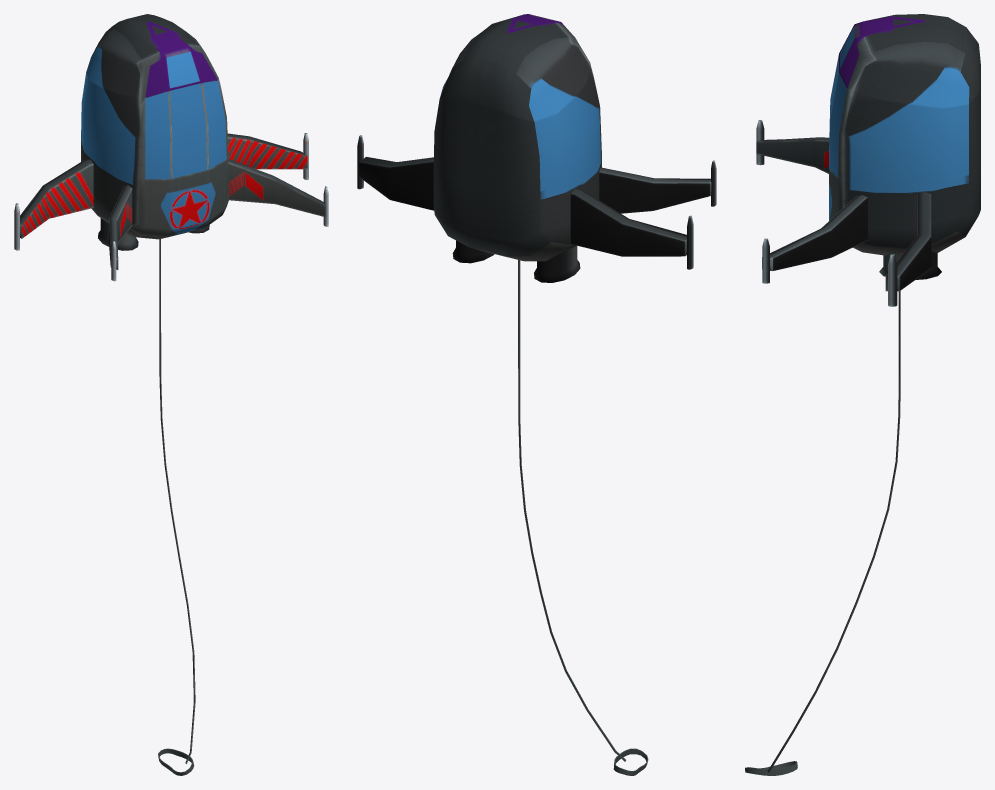
The model's file is 5_rocket_0001.fbx.
The picture shows the model from 3 angles, left to right: view 1: azimuth 30°, elevation 25°; view 2: azimuth 150°, elevation 25°; view 3: azimuth 270°, elevation 25°; orthographic projection. The views are drawn at different scales.
Parts seen in each view (by area): view 1: ship_shd2_formap; view 2: ship_shd2_formap; view 3: ship_shd2_formap.
Boxes of the visible parts, x1,y1,x2,y2 form: ship_shd2_formap: (14,14,328,775); ship_shd2_formap: (357,14,716,775); ship_shd2_formap: (745,14,980,775).
Bounding box in the file's own units: 47.74 × 107 × 29.42.
1 material, 1 textured.
